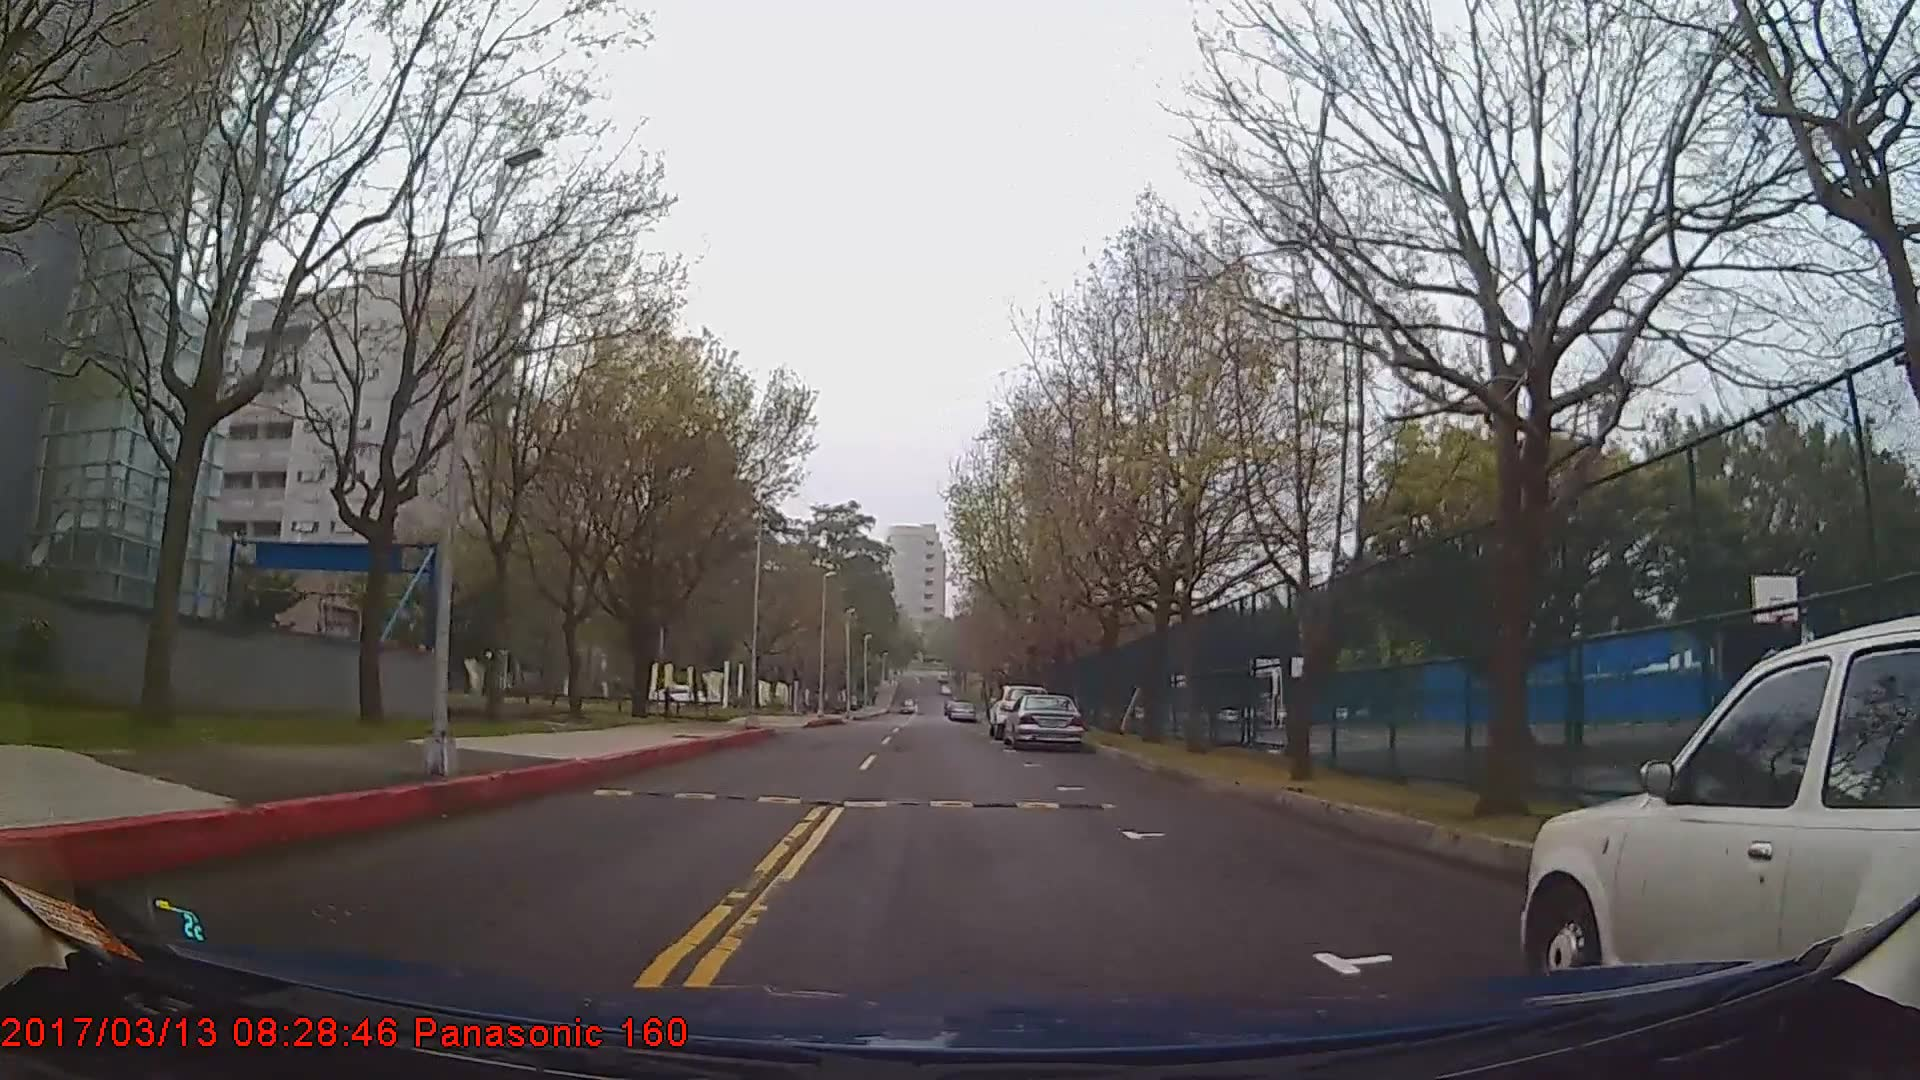vehicle: (1522, 612, 1919, 994), (1001, 691, 1084, 749), (944, 698, 978, 724)
